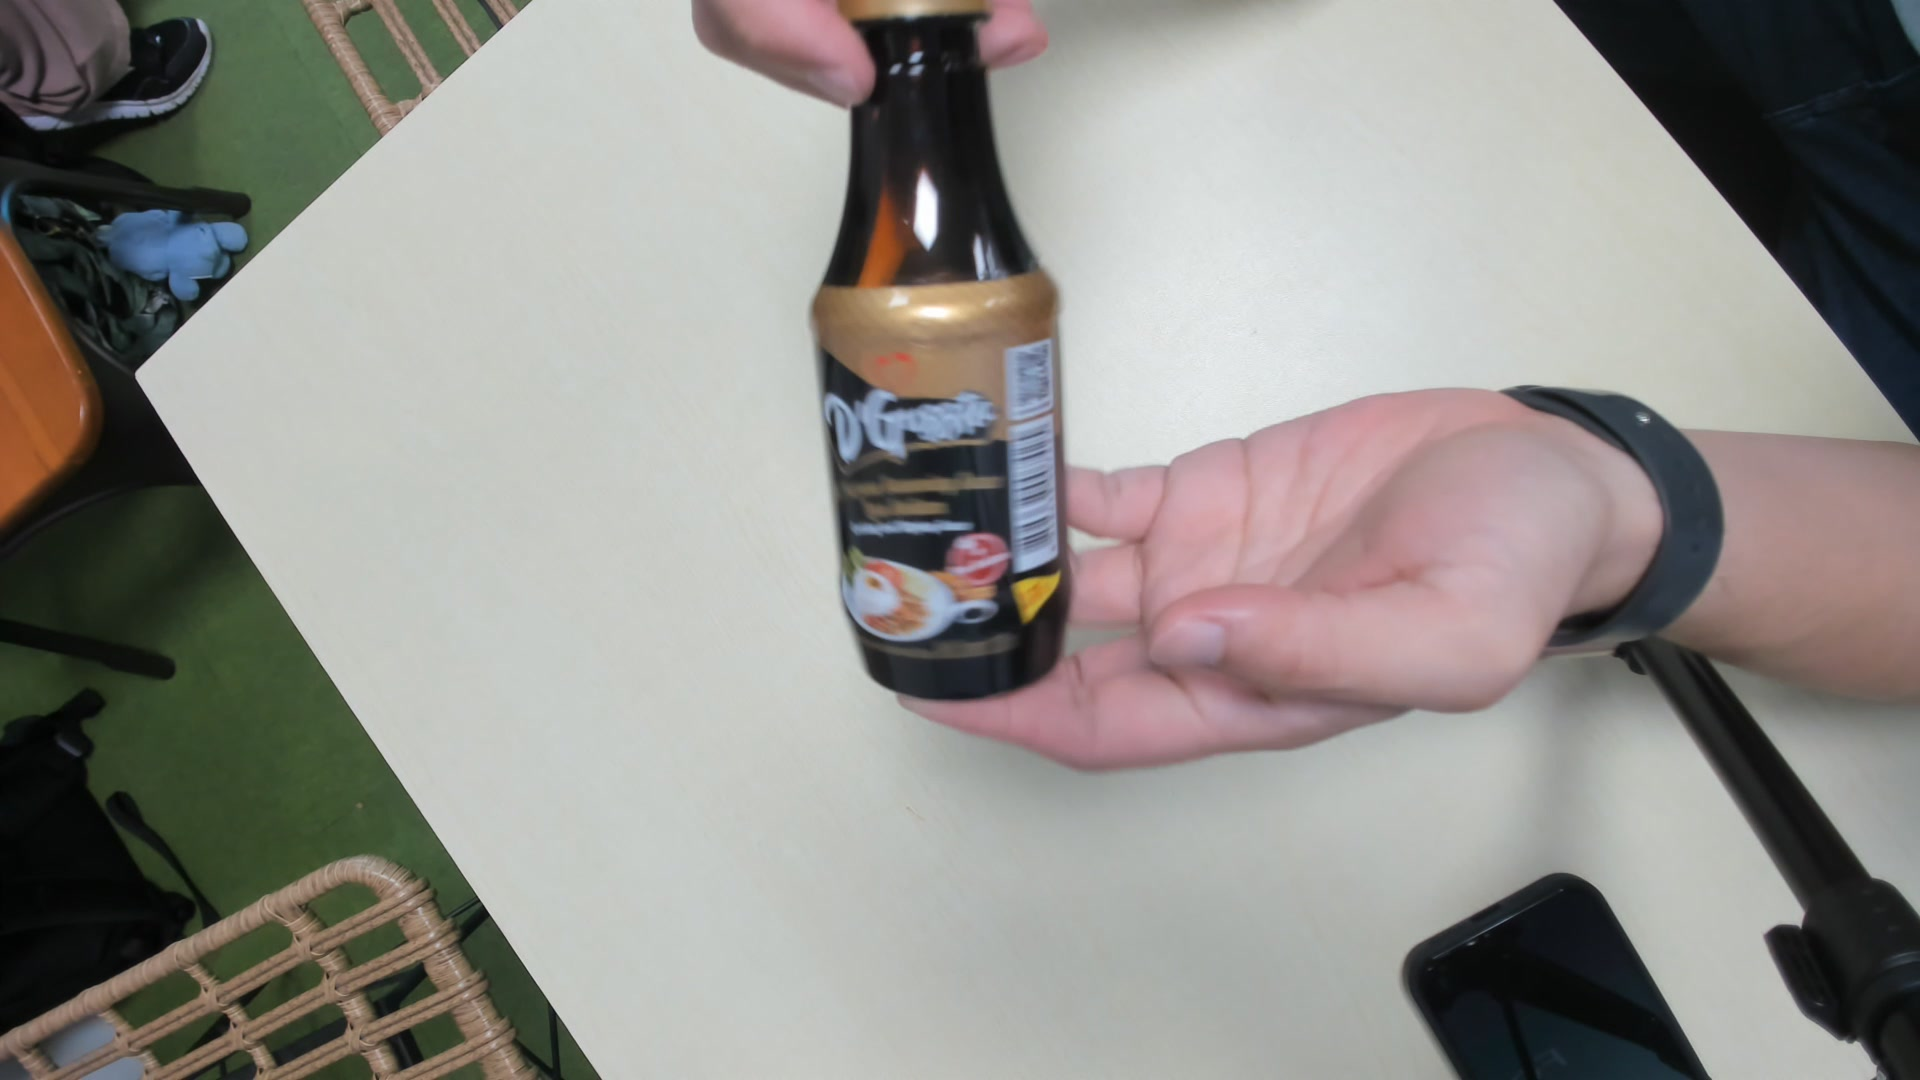OtherSauceDressing_200-299g_NonHalal_NonHealthy: (810, 1, 1072, 705)
